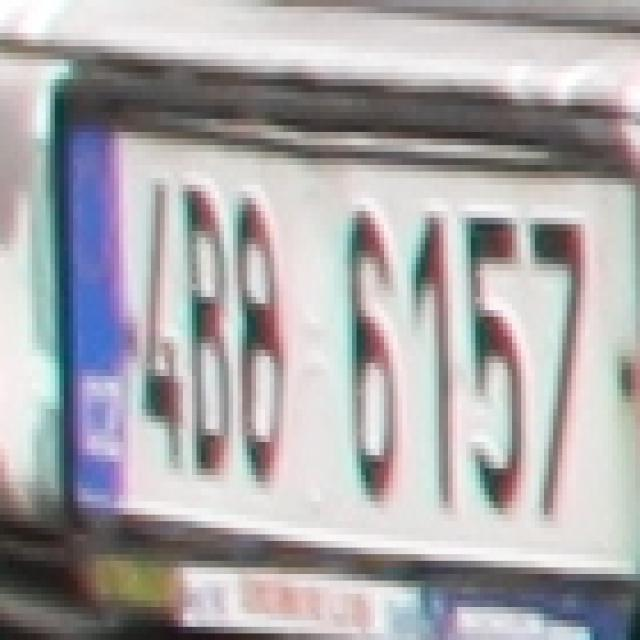1: (412, 211, 457, 515)
4: (132, 172, 183, 468)
5: (466, 211, 521, 528)
6: (343, 211, 402, 495)
7: (517, 218, 585, 521)
8: (224, 185, 293, 495)
B: (183, 185, 228, 475)
